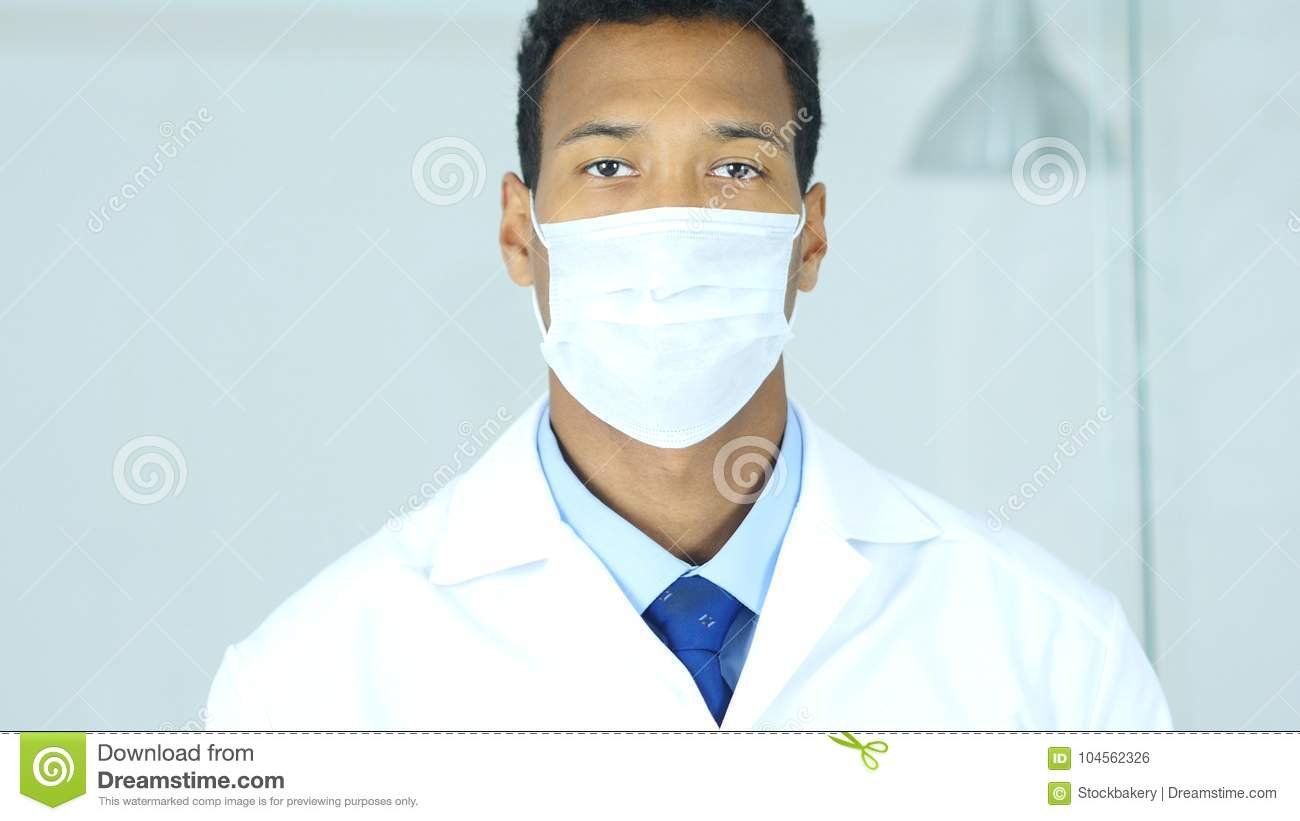mask: (528, 205, 813, 452)
